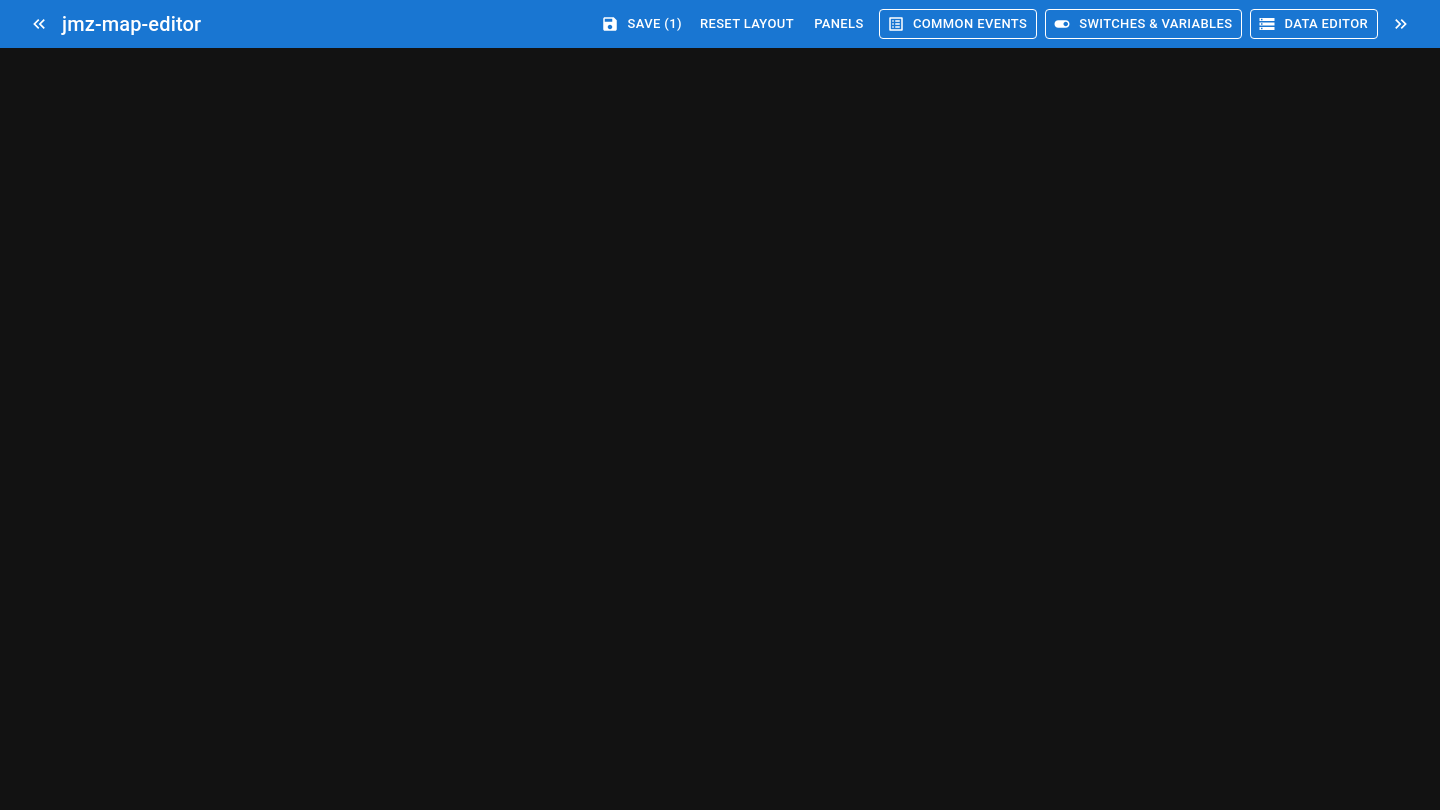
Test: WorkspaceChrome › counts the documents waiting to be saved, and saves them all with one click
Click the button "Save (1)": (643, 24) [598,9,687,39]
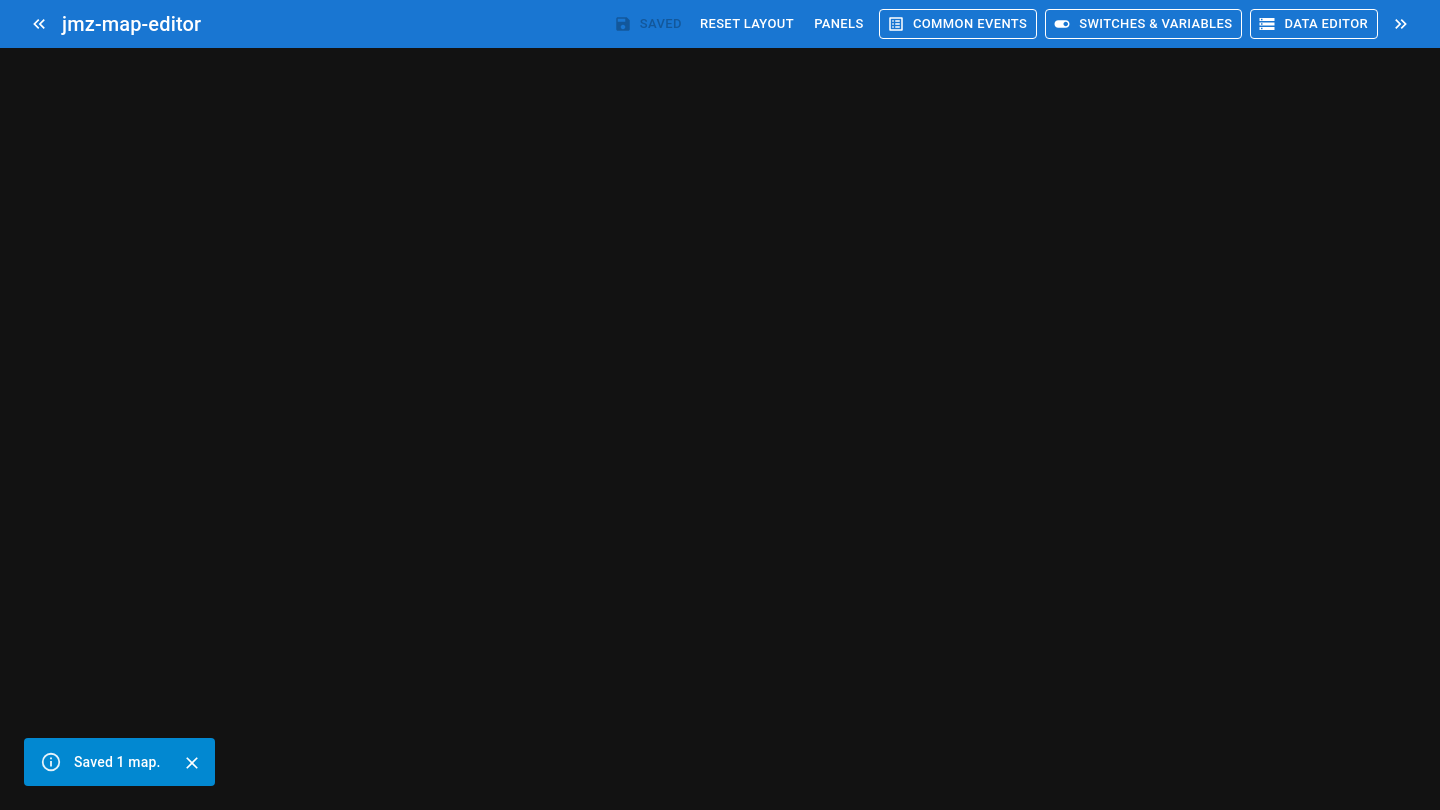
Result: the button "Saved" is disabled at [611,9,687,39]
